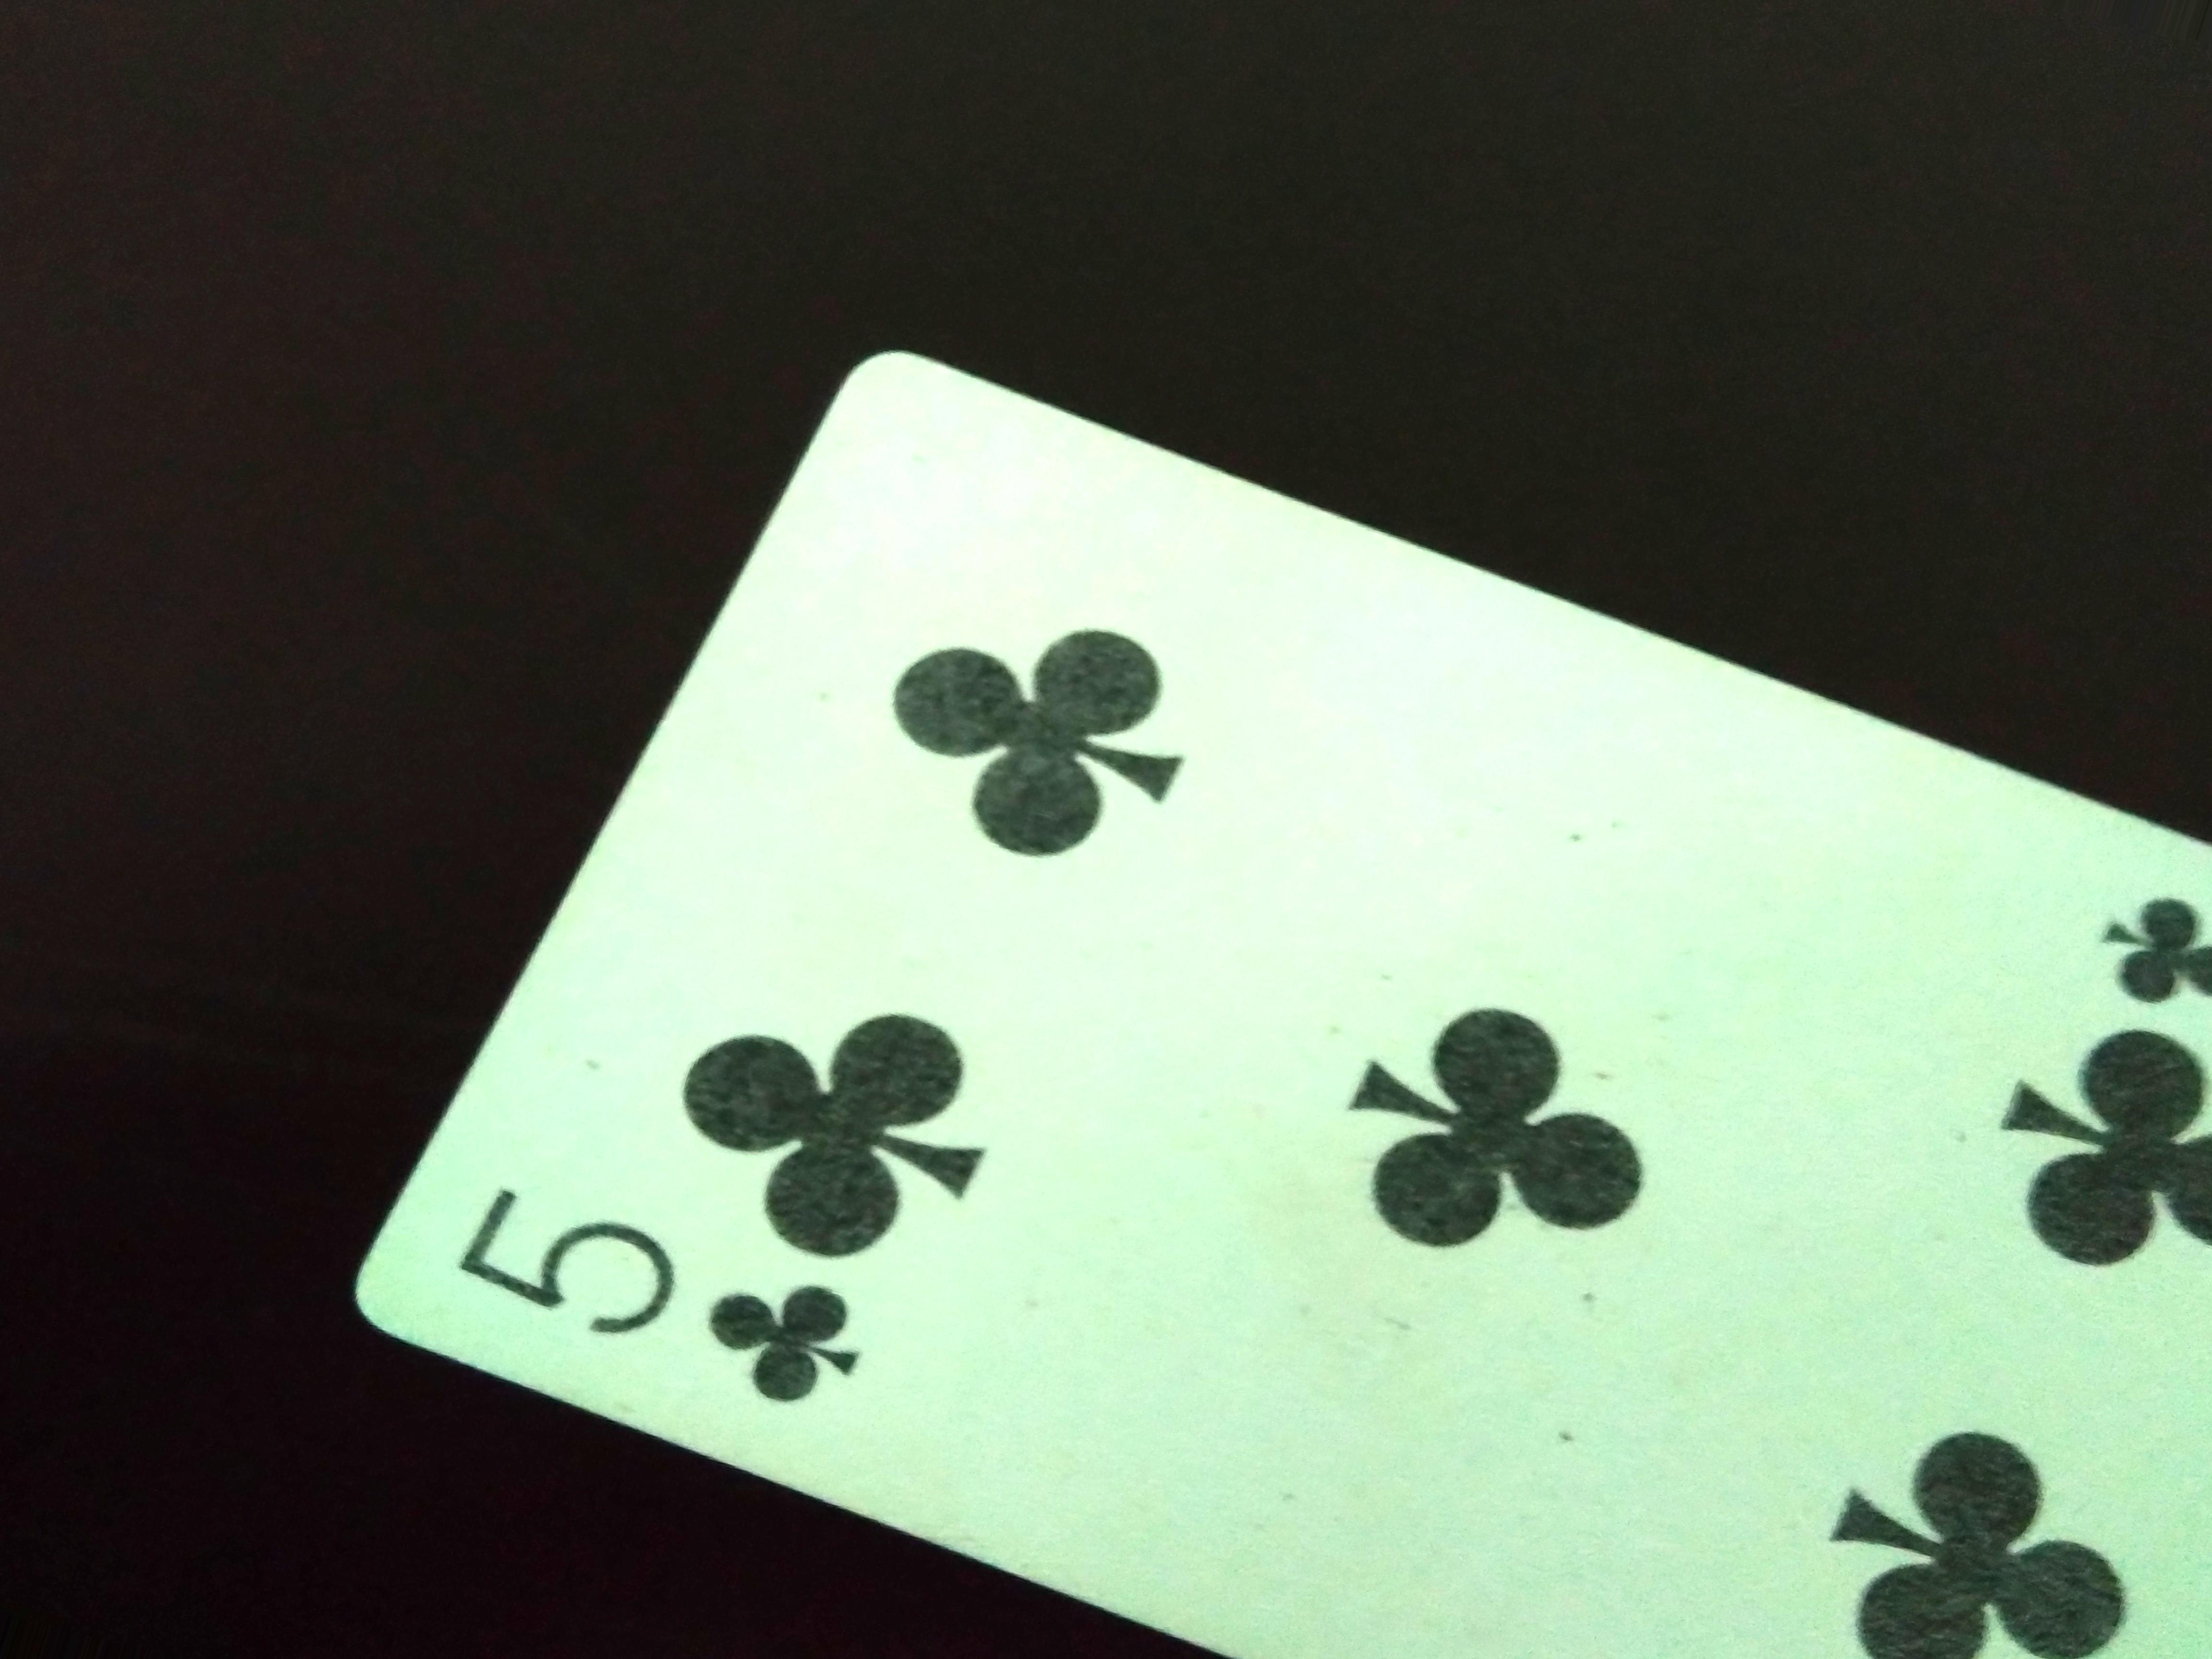5C: (437, 1175, 866, 1445)
